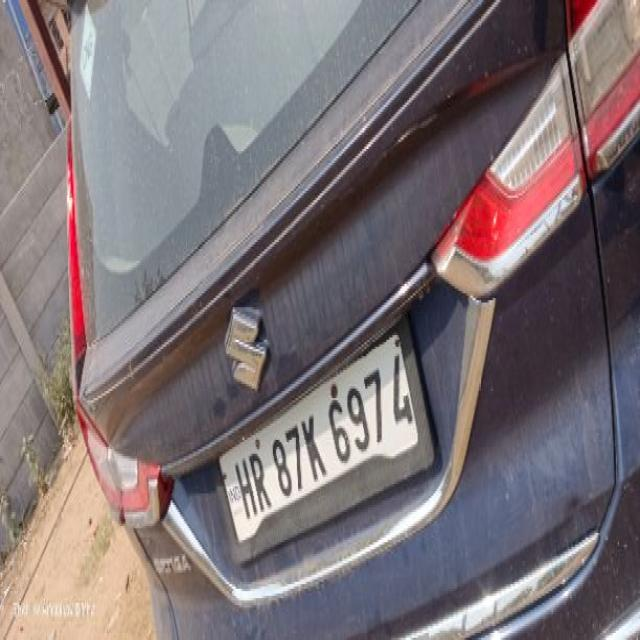license_plate: (217, 310, 436, 563)
